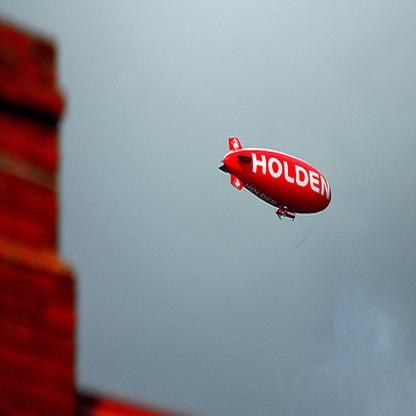Airship: (214, 131, 341, 229)
